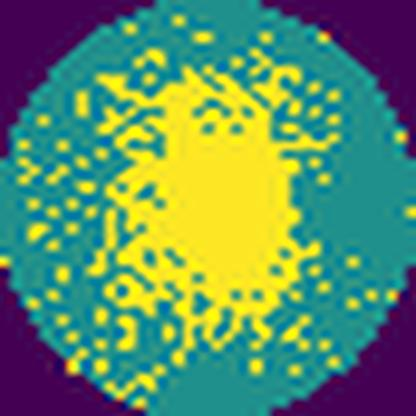Center: (96, 64, 308, 349)
